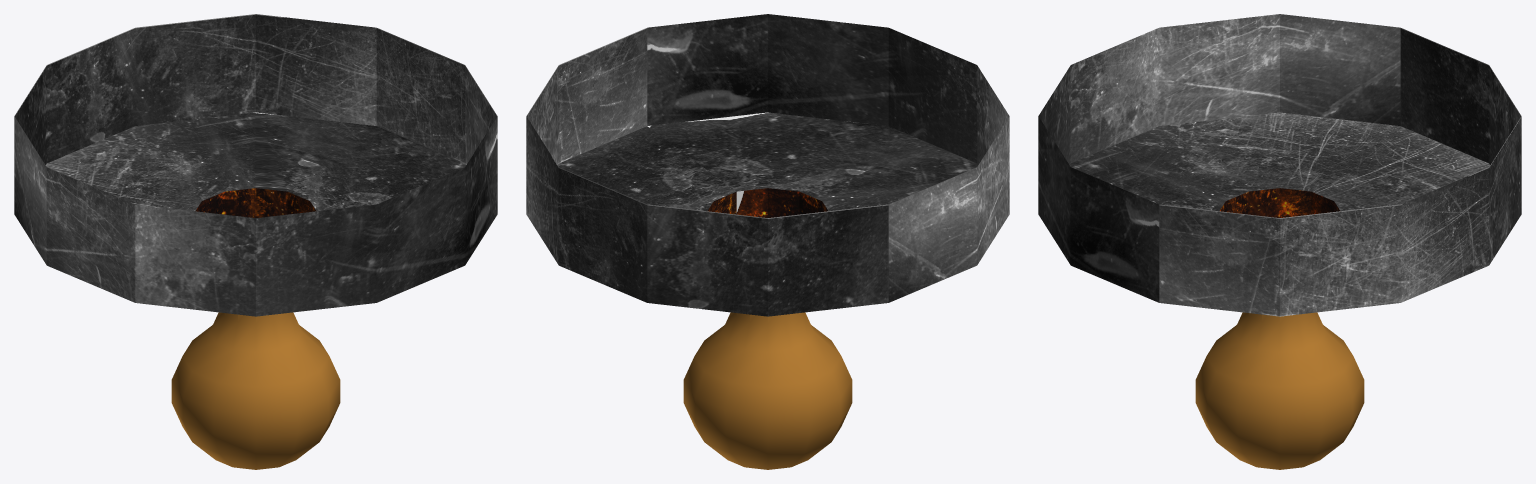
File: trylights.fbx
3 views of the same model, side by side, from view 1: azimuth 30°, elevation 25°; view 2: azimuth 150°, elevation 25°; view 3: azimuth 270°, elevation 25° (orthographic).
Parts seen in each view (by area): view 1: polySurface2, polySurface1; view 2: polySurface2, polySurface1; view 3: polySurface2, polySurface1.
Boxes of the visible parts, bbox=[...] form: polySurface2: bbox=[14, 14, 497, 316]; polySurface1: bbox=[171, 312, 340, 469]; polySurface2: bbox=[526, 14, 1009, 316]; polySurface1: bbox=[683, 312, 852, 469]; polySurface2: bbox=[1038, 14, 1521, 316]; polySurface1: bbox=[1195, 312, 1364, 469].
Size of the model in its own units: 92.85 by 72.88 by 92.85.
1 material, 1 textured.
